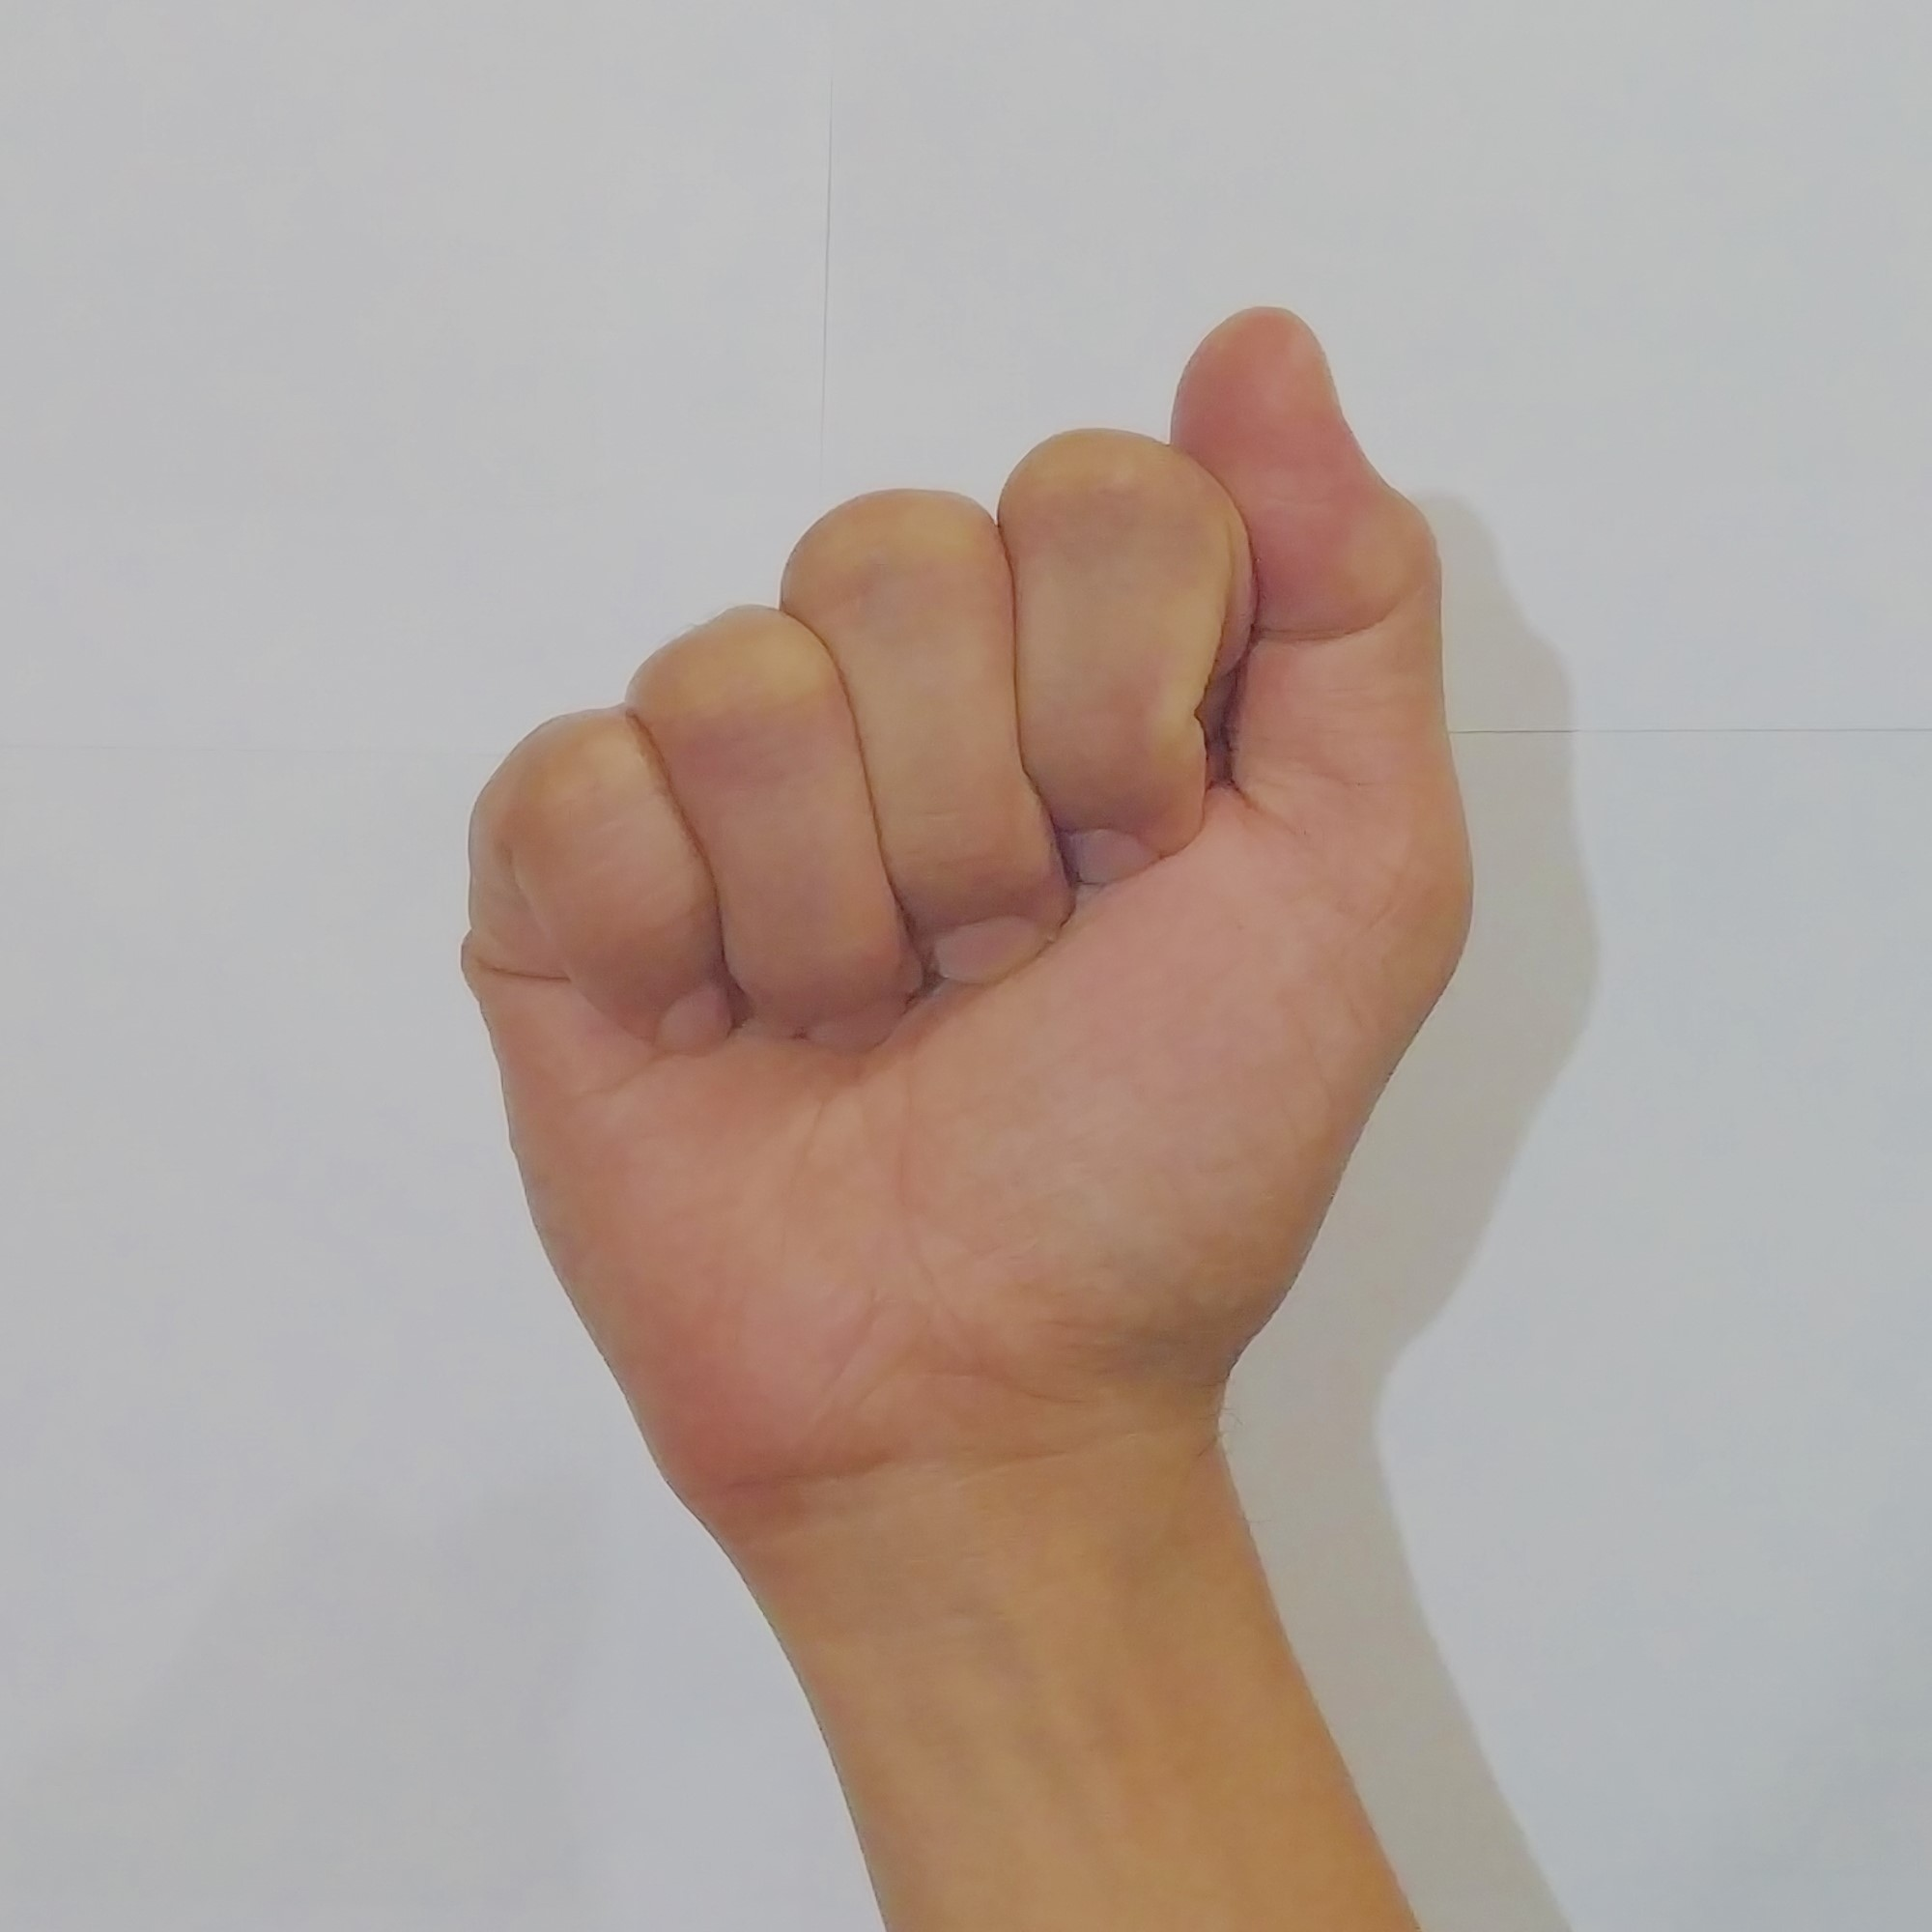A: (432, 285, 1497, 1474)
